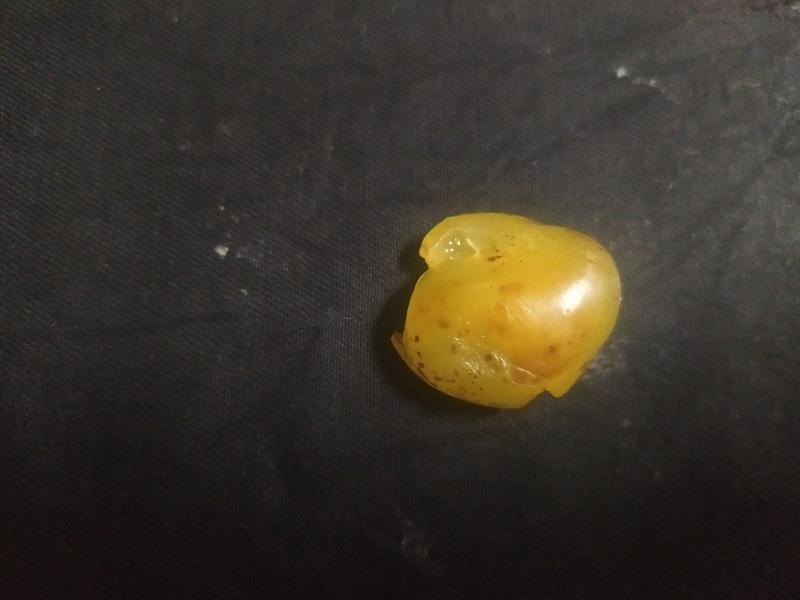Grape Overripe: (386, 209, 625, 413)
